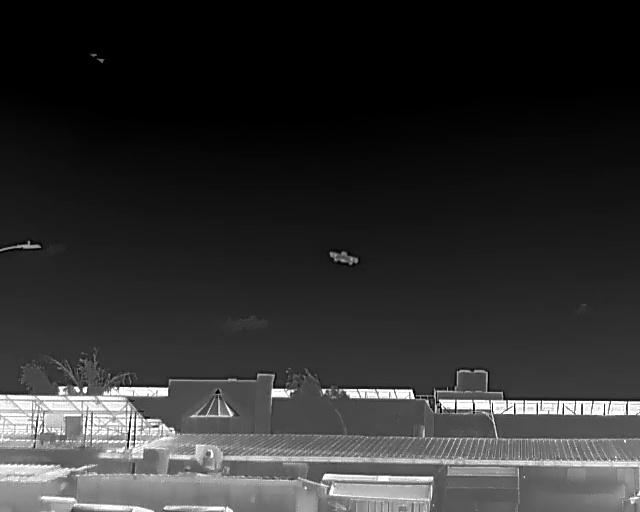fpv-drone: (329, 251, 358, 265)
